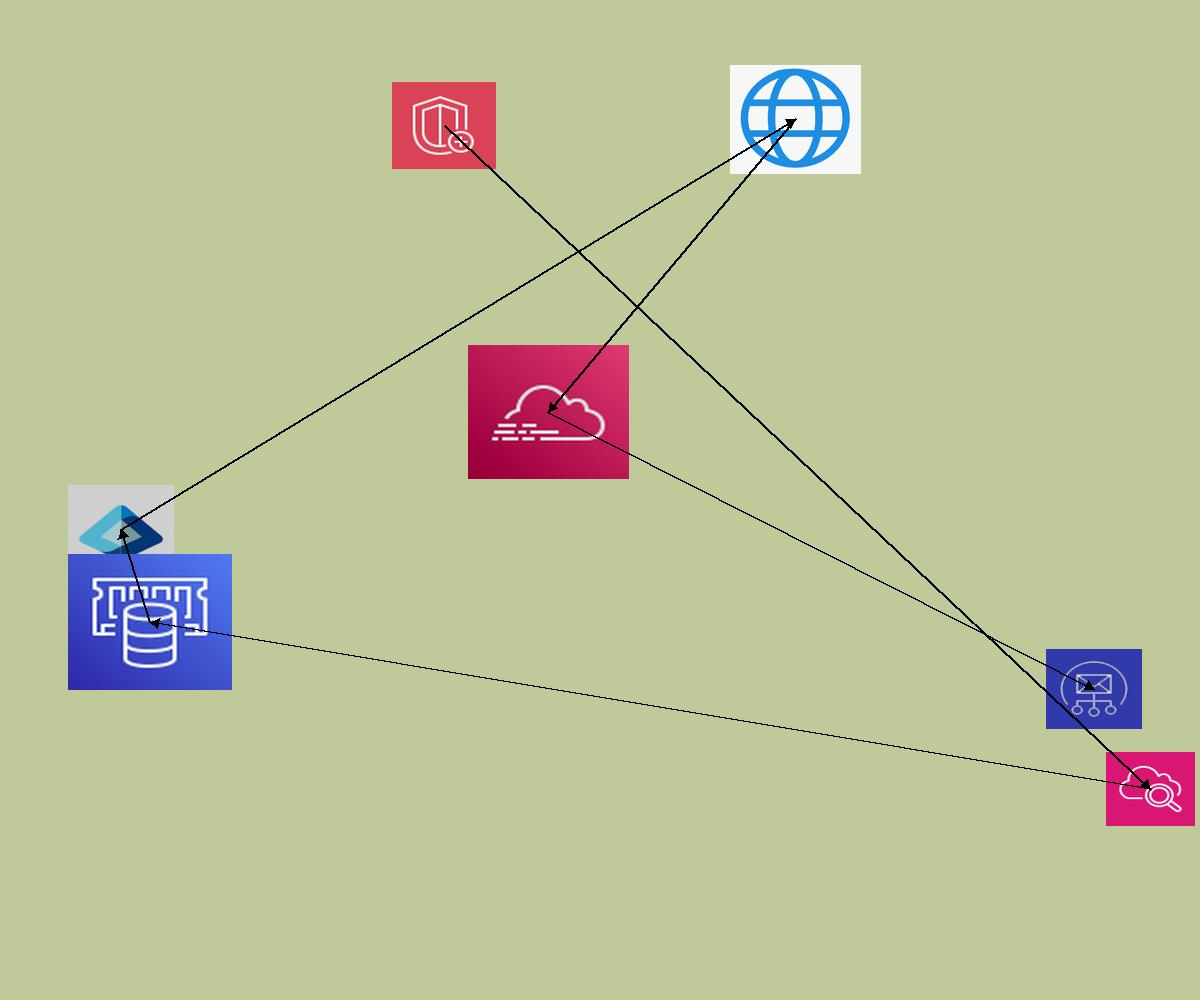AWS-CloudTrail: (468, 345, 629, 479)
AWS-CloudWatch: (1106, 752, 1195, 826)
AWS-ElastiCache: (68, 554, 232, 690)
AWS-Shield: (392, 82, 496, 169)
AWS-Simple-Email-Service: (1046, 649, 1142, 729)
Azure_http: (730, 65, 861, 174)
Azure_microsoft_entra: (68, 485, 174, 574)
